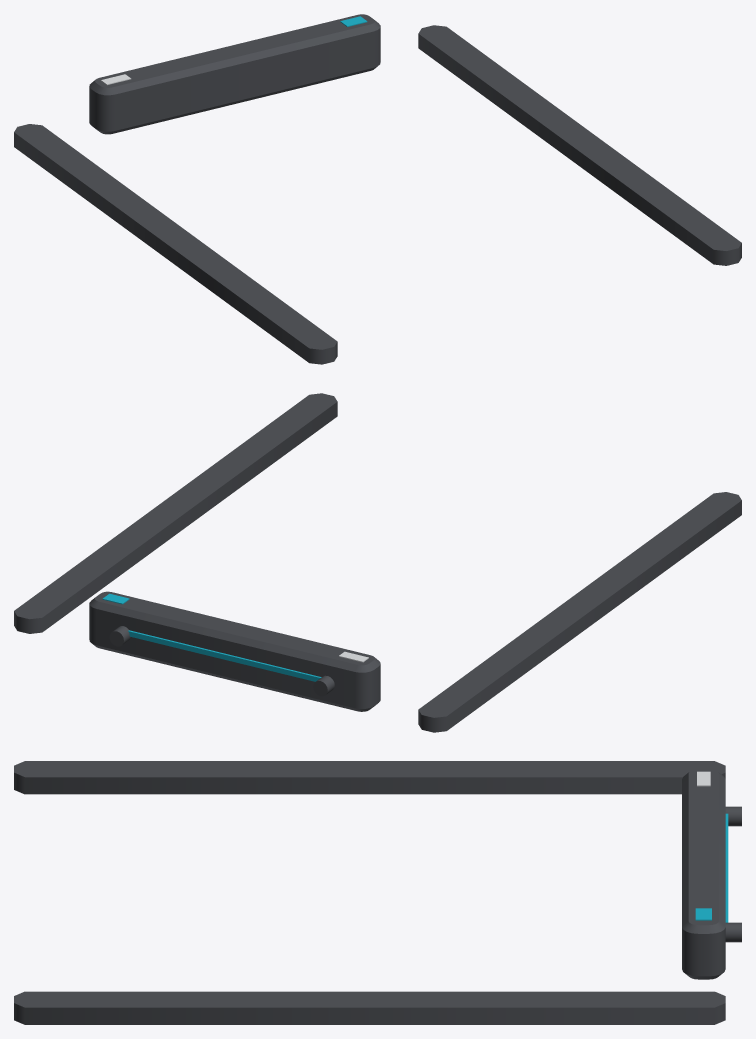
File: mcc1_mount.obj
3 renders of one model, top to bottom at view 1: azimuth 30°, elevation 25°; view 2: azimuth 150°, elevation 25°; view 3: azimuth 270°, elevation 25°, orthographic. The views are drawn at different scales.
Parts seen in each view (by area): view 1: mcc1_mount; view 2: mcc1_mount; view 3: mcc1_mount.
Boxes of the visible parts, bbox=[...] form: mcc1_mount: bbox=[14, 14, 741, 364]; mcc1_mount: bbox=[14, 393, 741, 732]; mcc1_mount: bbox=[14, 761, 741, 1024].
Bounding box in the file's own units: 1.07 × 0.112 × 1.33.
